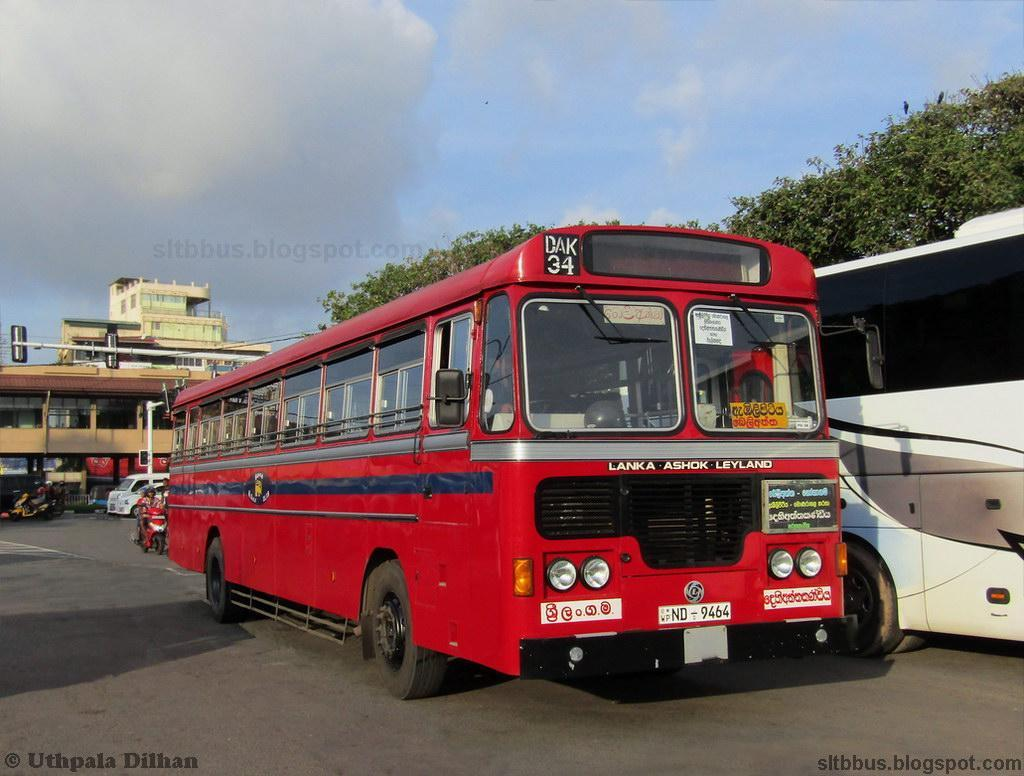Bus: (155, 225, 899, 685)
